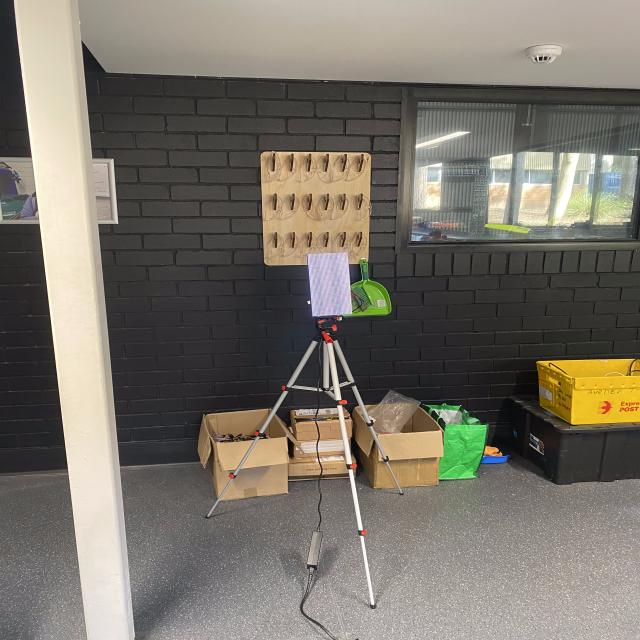matrix: (300, 247, 363, 321)
